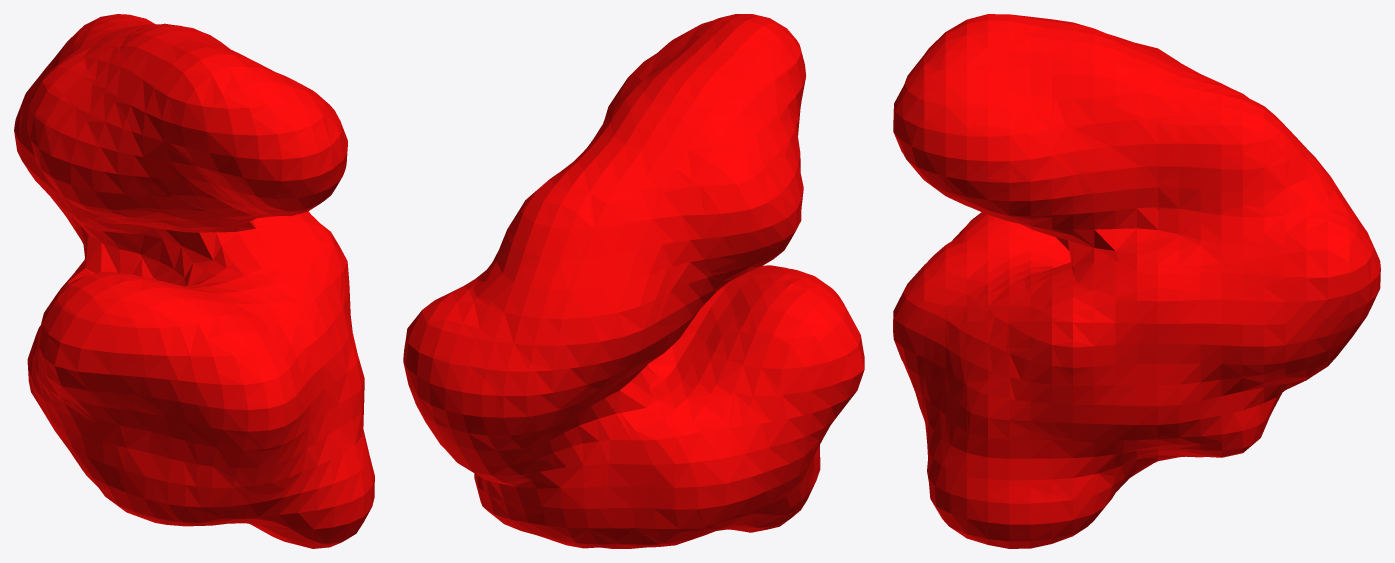
Rendered from yajC_coarse.dae.
3 views of the same model, side by side, from view 1: azimuth 30°, elevation 25°; view 2: azimuth 150°, elevation 25°; view 3: azimuth 270°, elevation 25° (orthographic). The views are drawn at different scales.
Parts seen in each view (by area): view 1: yajC; view 2: yajC; view 3: yajC.
Part boxes in pixels (x1,y1,x2,y2): yajC: (14,14,374,548); yajC: (403,14,864,548); yajC: (893,14,1380,548).
Size of the model in its own units: 28.68 by 45.78 by 42.4.
